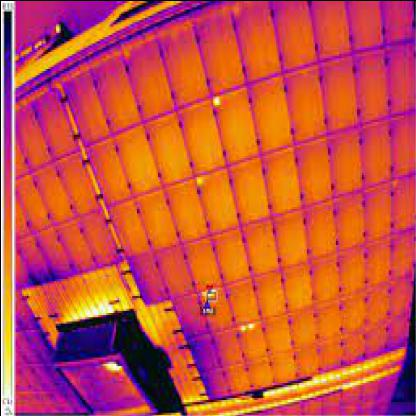Defects: (73, 302, 112, 318), (232, 320, 258, 336), (100, 356, 122, 374), (210, 86, 225, 110), (190, 170, 202, 199)
